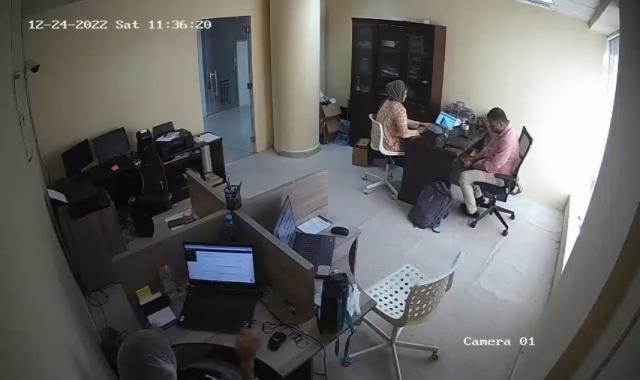hairnet: (115, 328, 179, 380)
no_hairnet: (384, 76, 409, 106), (485, 107, 509, 138)
